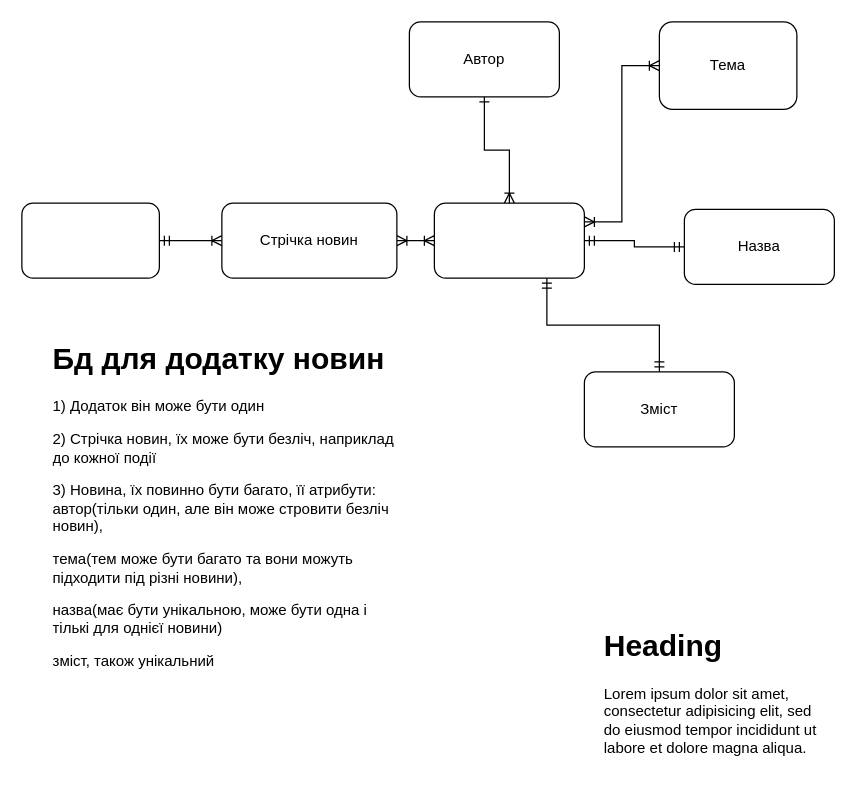
This 858x794 diagram has some shape labels left out. The centre of each missing label's shape, as x and y in pixels:
"Додаток" belongs at [90,240].
"Новина" belongs at [508,240].
